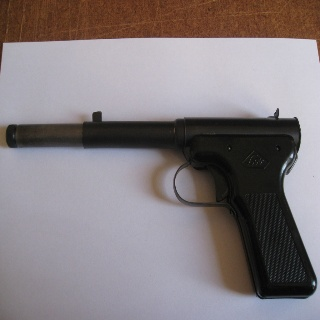pistol: (4, 103, 317, 303)
